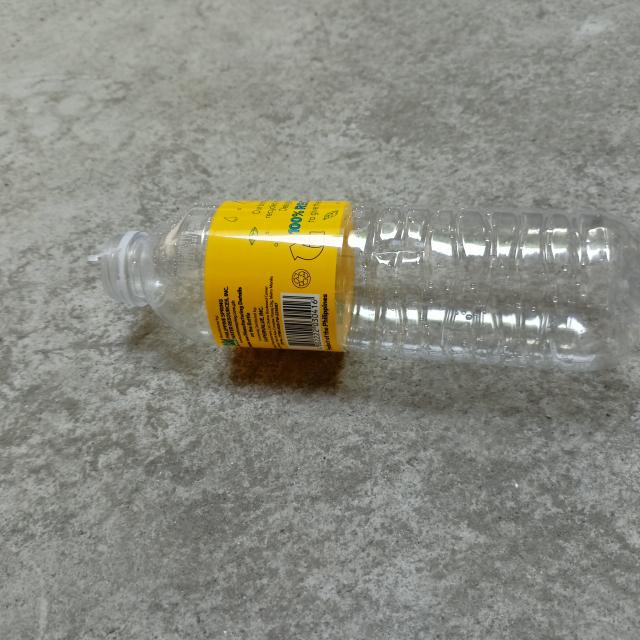Bottle: (88, 201, 640, 372)
